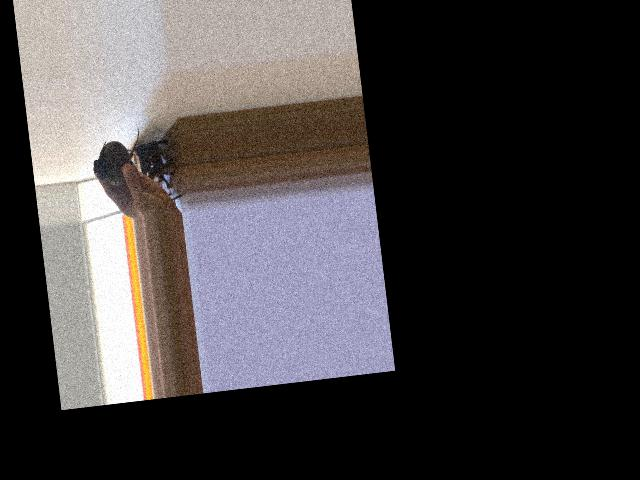beet: (89, 126, 145, 187)
